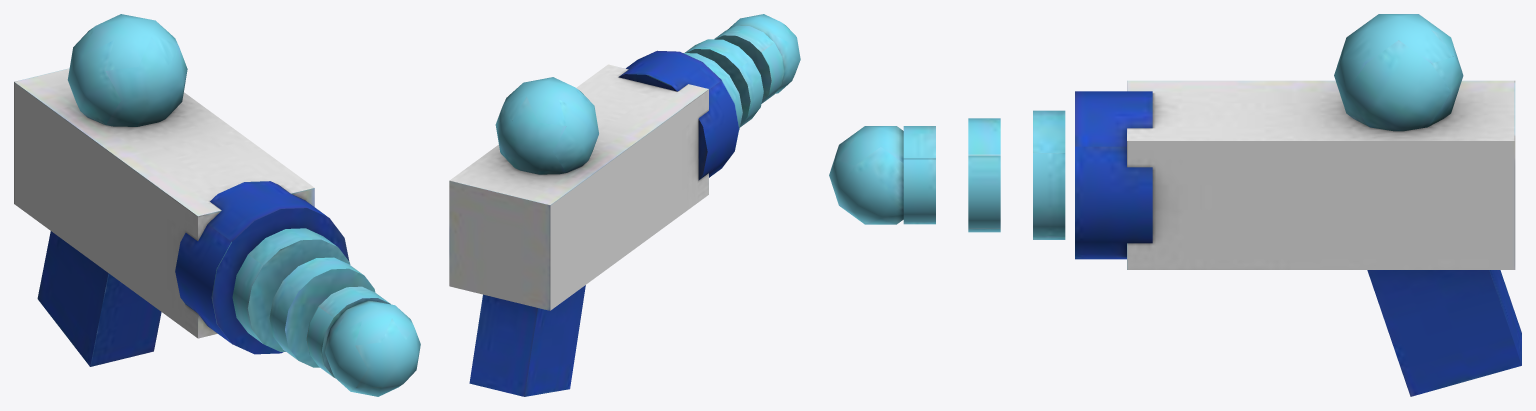
The model's file is rayo.glb.
3 renders of one model, left to right at view 1: azimuth 30°, elevation 25°; view 2: azimuth 150°, elevation 25°; view 3: azimuth 270°, elevation 25°, orthographic. The views are drawn at different scales.
Parts seen in each view (by area): view 1: rayo; view 2: rayo; view 3: rayo.
Part boxes in pixels (x1,y1,x2,y2): rayo: (14,14,420,396); rayo: (449,14,800,396); rayo: (829,14,1521,396).
Size of the model in its own units: 0.26 by 0.6199 by 1.07.
Materials: 1 (1 with a texture image).
